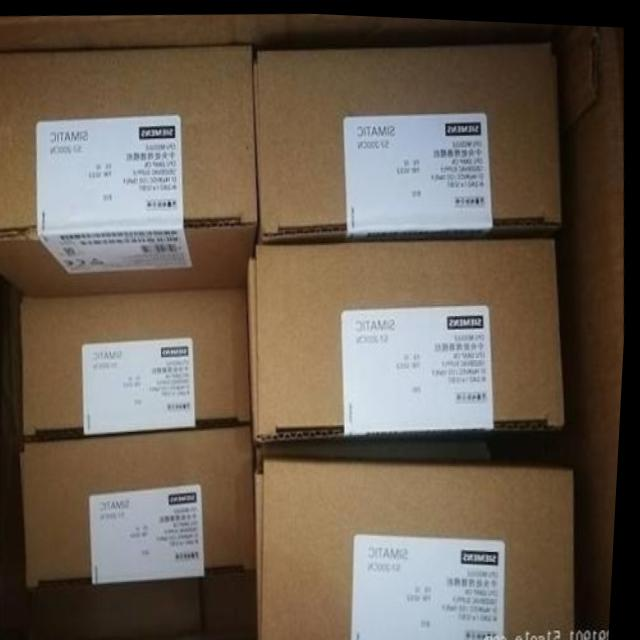box: (0, 42, 261, 298), (250, 237, 570, 437), (254, 38, 563, 243), (259, 453, 581, 640), (26, 425, 262, 584), (24, 290, 258, 438)
